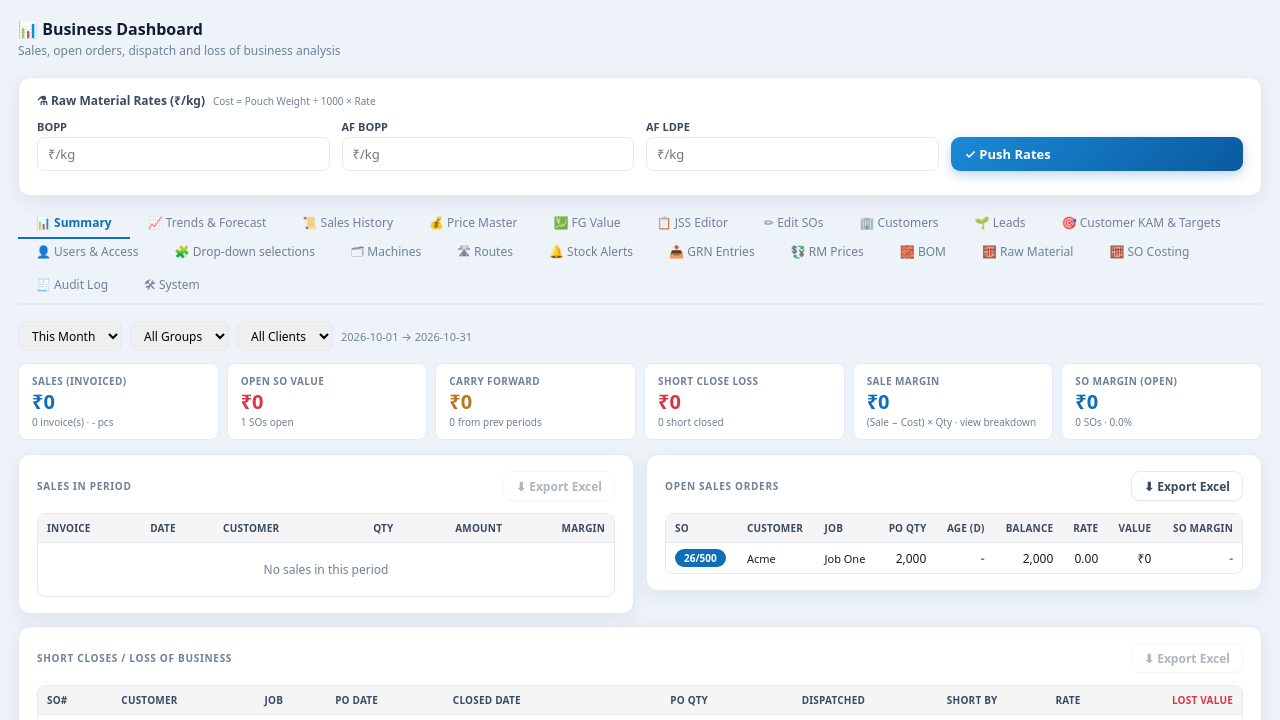
it: Dashboard — BOM and Raw Material tabs › refuses to save a BOM with no usable material rows
This screenshot has width=1280, height=720.
Click the text "🧱 BOM". click: [923, 252]
box: x1=900 y1=243 x2=946 y2=260
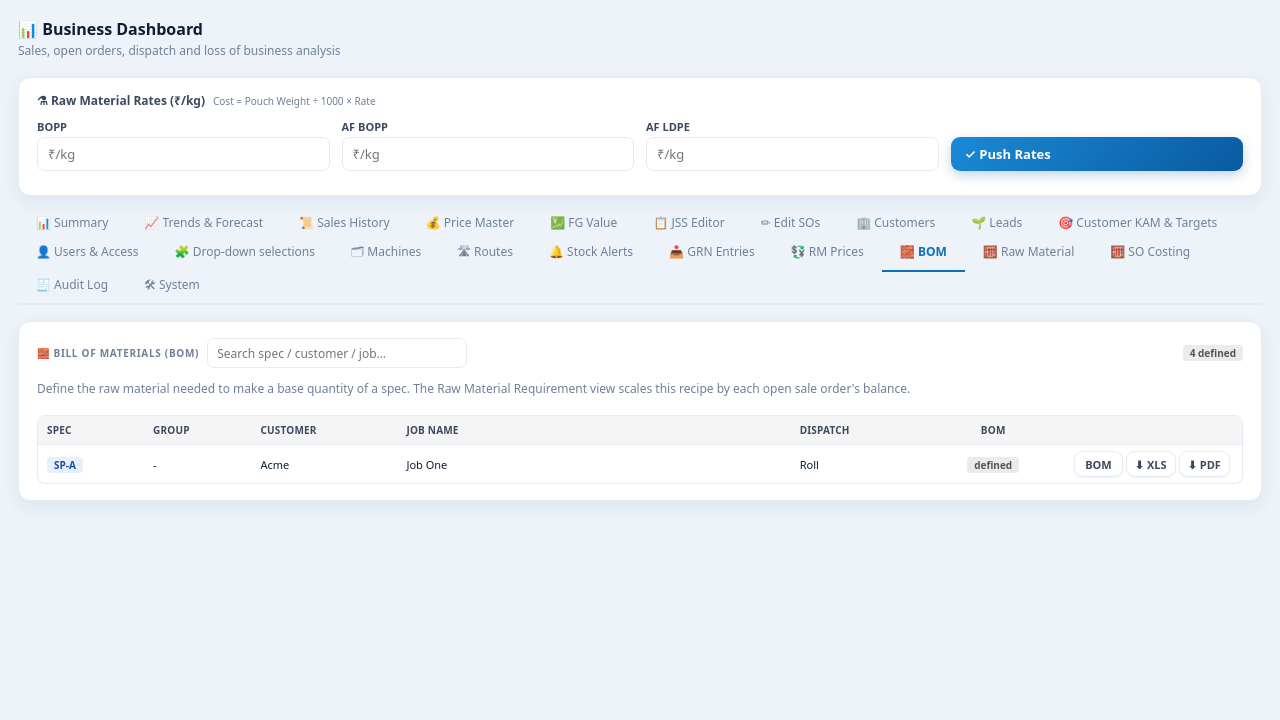
Click the button with aria-label "Edit BOM for SP-A". click: [1098, 464]
box: x1=1074 y1=451 x2=1123 y2=477
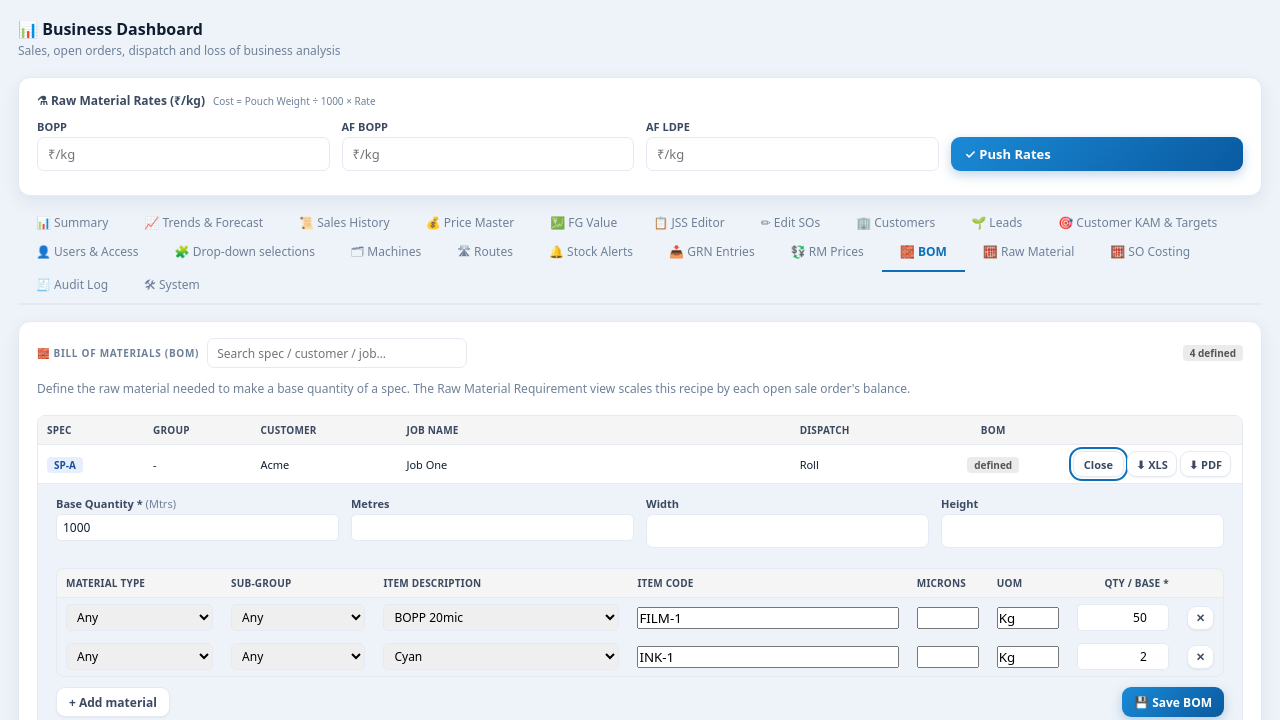
Clear the field named "Item Code row 1". click: [768, 618]
box: x1=637 y1=606 x2=899 y2=628
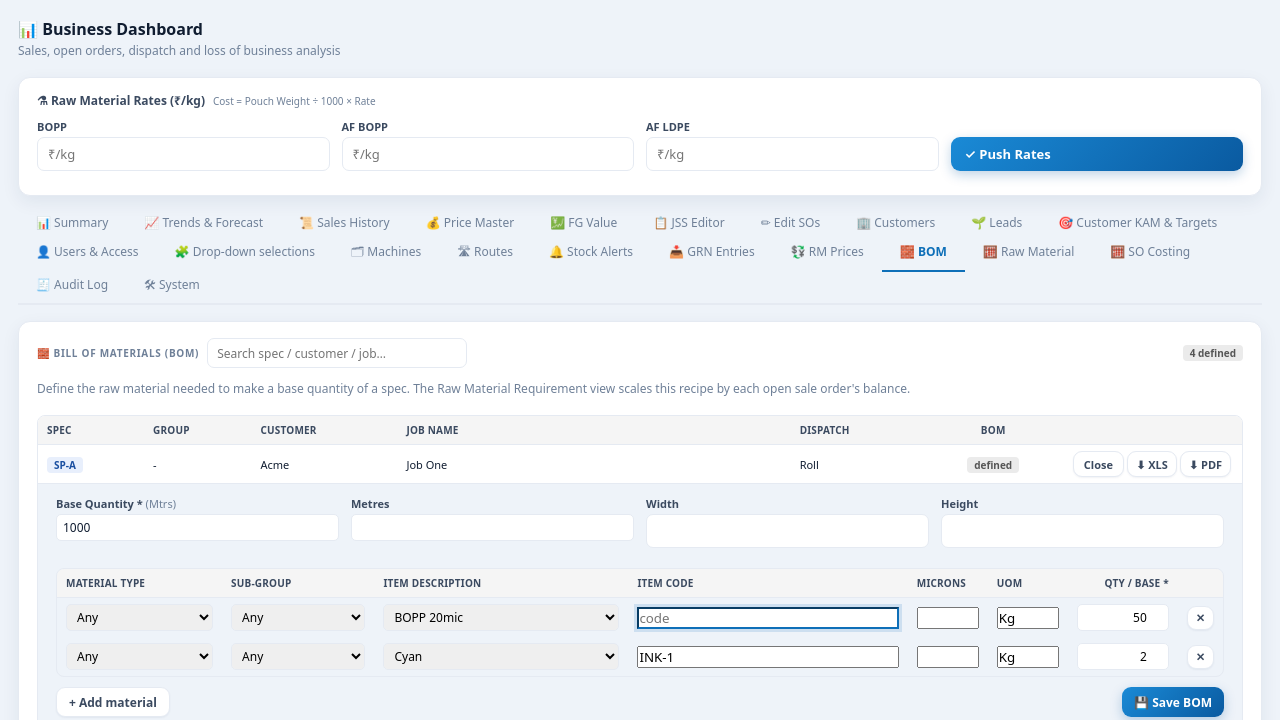
Clear the number field named "Qty per base row 2". click: [1123, 656]
box: x1=1077 y1=643 x2=1169 y2=670
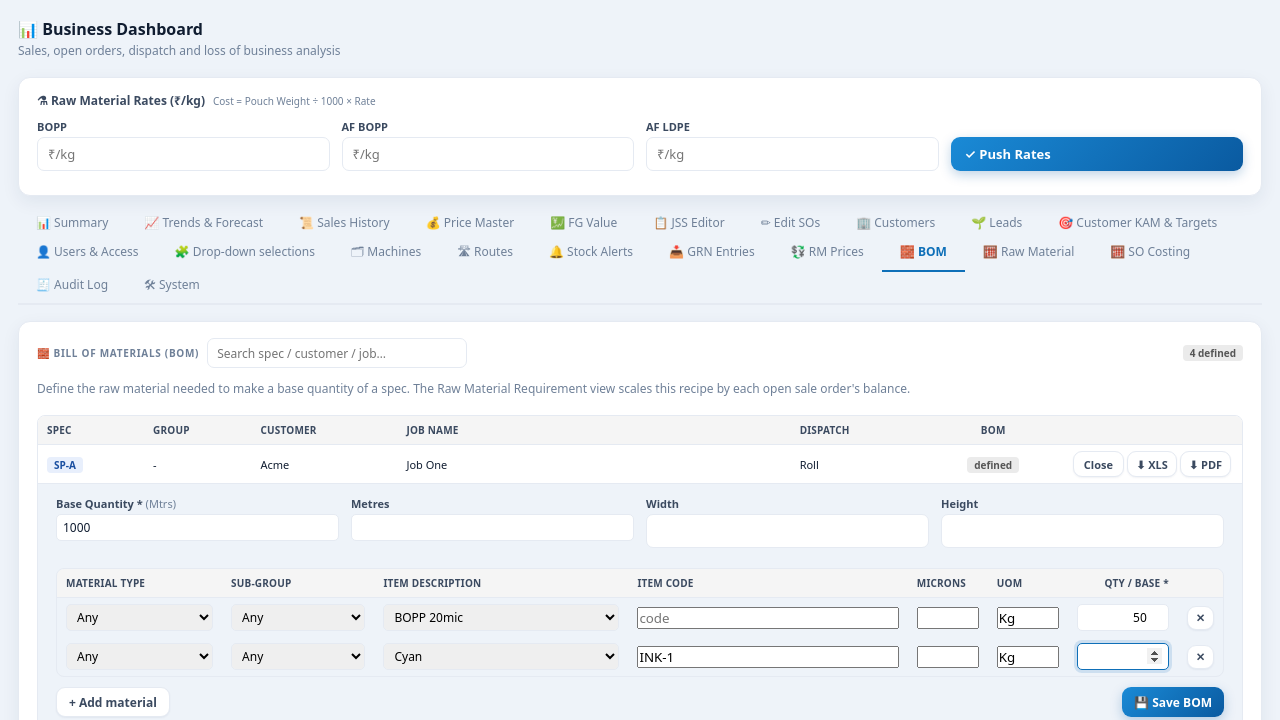
Click the button "💾 Save BOM". click: [1173, 702]
box: x1=1122 y1=687 x2=1224 y2=717
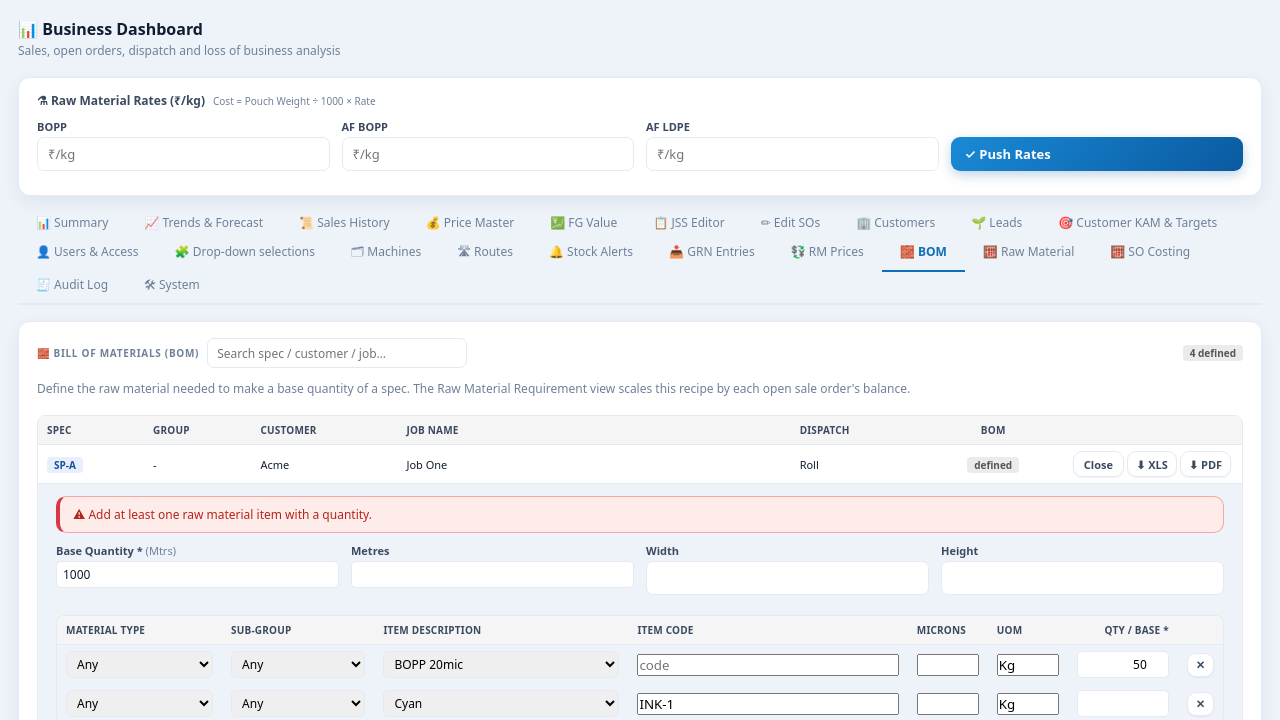
Now the text "⚠ Add at least one raw material item with a quantity." is shown, box x1=56 y1=496 x2=1224 y2=533
